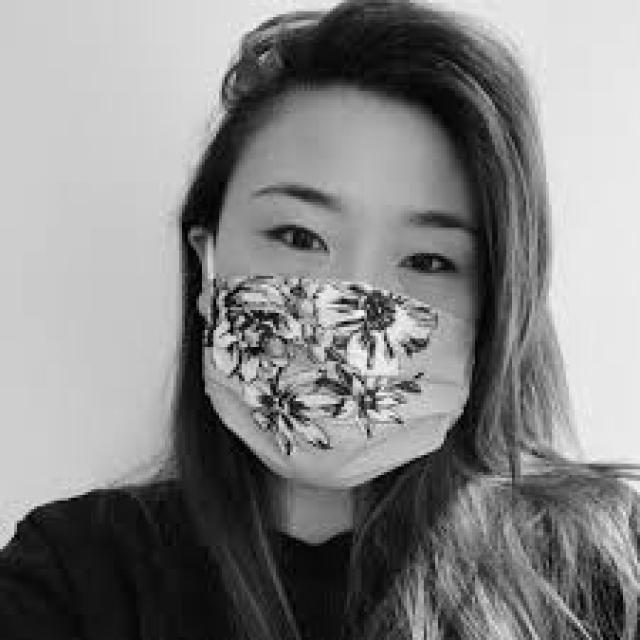without_mask: (196, 234, 481, 486)
